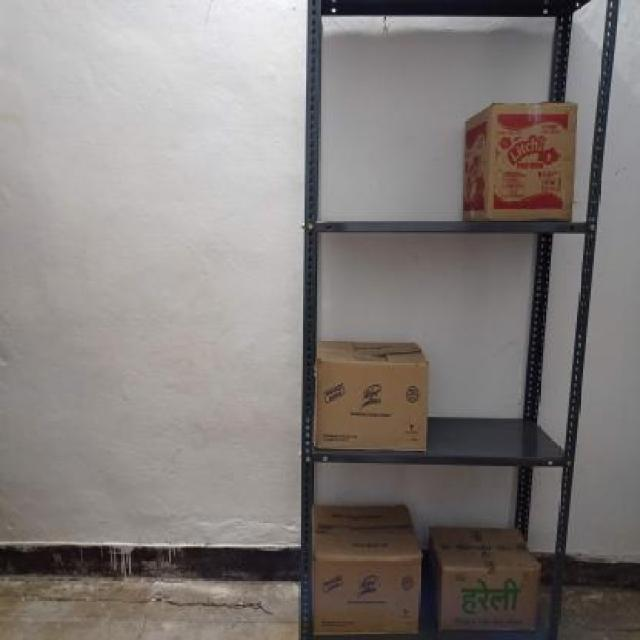box: (491, 98, 574, 224), (312, 363, 432, 446), (312, 555, 423, 640), (438, 568, 540, 634)
